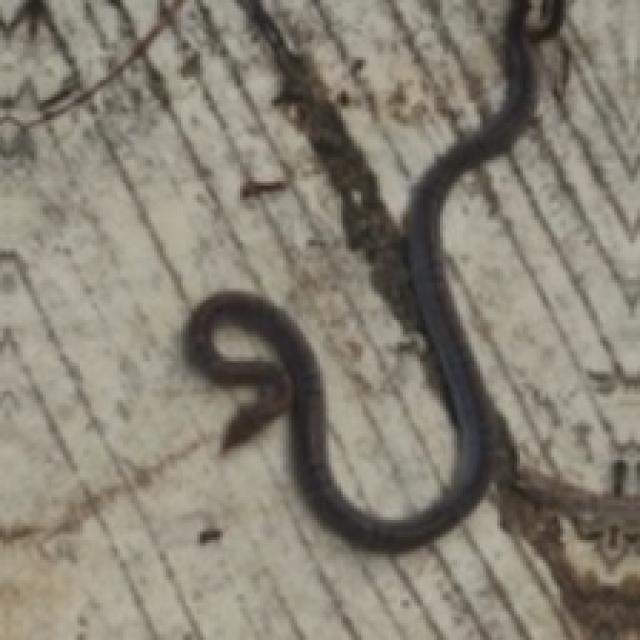northern short-headed snake: (183, 0, 531, 549)
